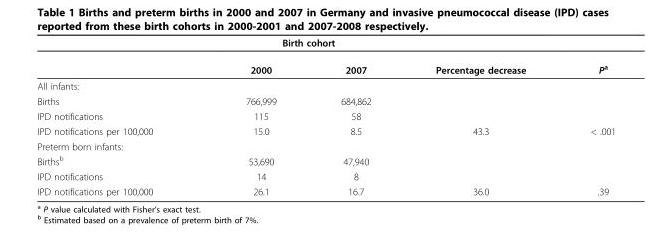table: (36, 36, 615, 196)
table column: (36, 36, 198, 196), (402, 36, 557, 196), (198, 36, 307, 196), (307, 36, 402, 196), (557, 36, 615, 196)
table column header: (36, 36, 615, 77)
table projected row header: (36, 77, 615, 93), (36, 138, 615, 152)
table row: (36, 55, 615, 77), (36, 36, 615, 55), (36, 77, 615, 93), (36, 152, 615, 168), (36, 93, 615, 108), (36, 108, 615, 123), (36, 123, 615, 138), (36, 168, 615, 183), (36, 138, 615, 152), (36, 183, 615, 196)
table spanning cell: (402, 36, 557, 77), (198, 36, 402, 55), (557, 36, 615, 77)
